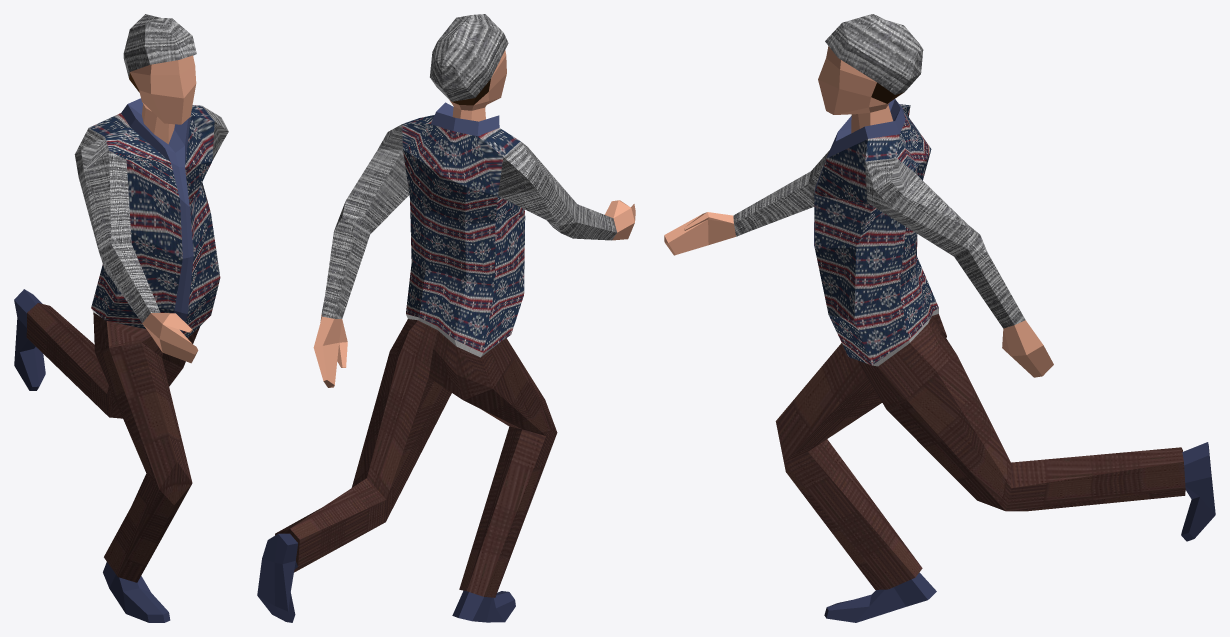
Rendered from AutumnManB.008.glb.
The picture shows the model from 3 angles, left to right: view 1: azimuth 30°, elevation 25°; view 2: azimuth 150°, elevation 25°; view 3: azimuth 270°, elevation 25°; orthographic projection. The views are drawn at different scales.
Parts seen in each view (by area): view 1: AutumnManB.008; view 2: AutumnManB.008; view 3: AutumnManB.008.
Part boxes in pixels (x1,y1,x2,y2): AutumnManB.008: [14, 14, 228, 622]; AutumnManB.008: [257, 14, 635, 622]; AutumnManB.008: [664, 14, 1215, 622].
Size of the model in its own units: 0.4666 by 1.6 by 1.3.
Materials: 1 (1 with a texture image).
